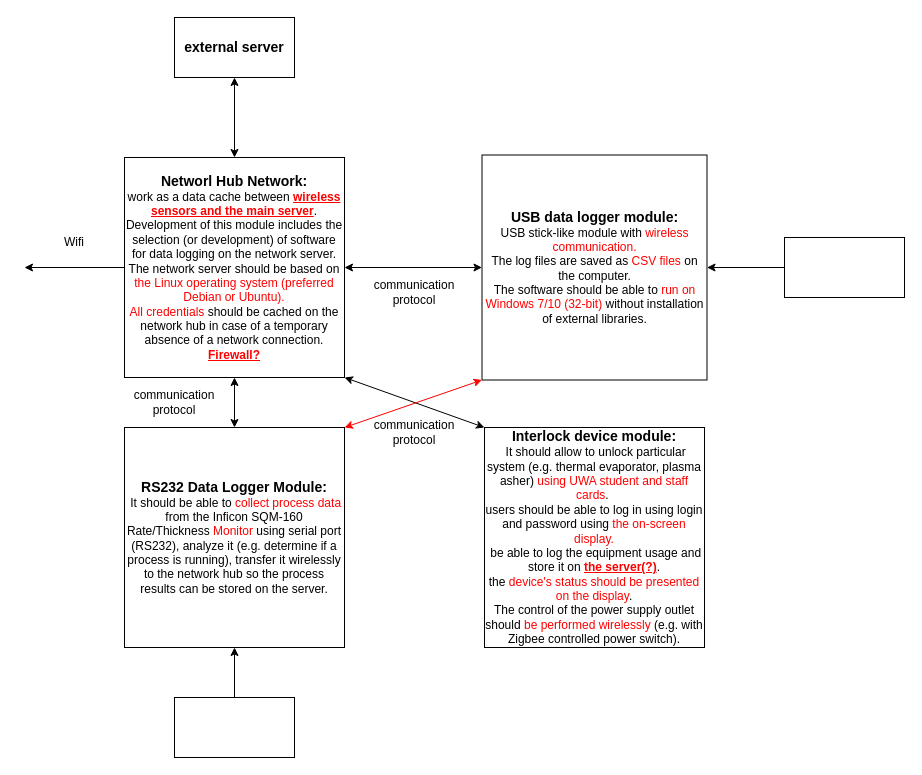
The diagram is 922 pixels wide and 775 high, and some of its shapes have lost their labels. The shapes that lost their labels are listed below. From the top down, each one's centre as x and y in pixels, then its label:
(844,267): Equipments
(234,727): Monitor
